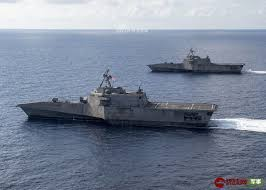tau_muctieu: (12, 80, 218, 135), (144, 44, 249, 77)
